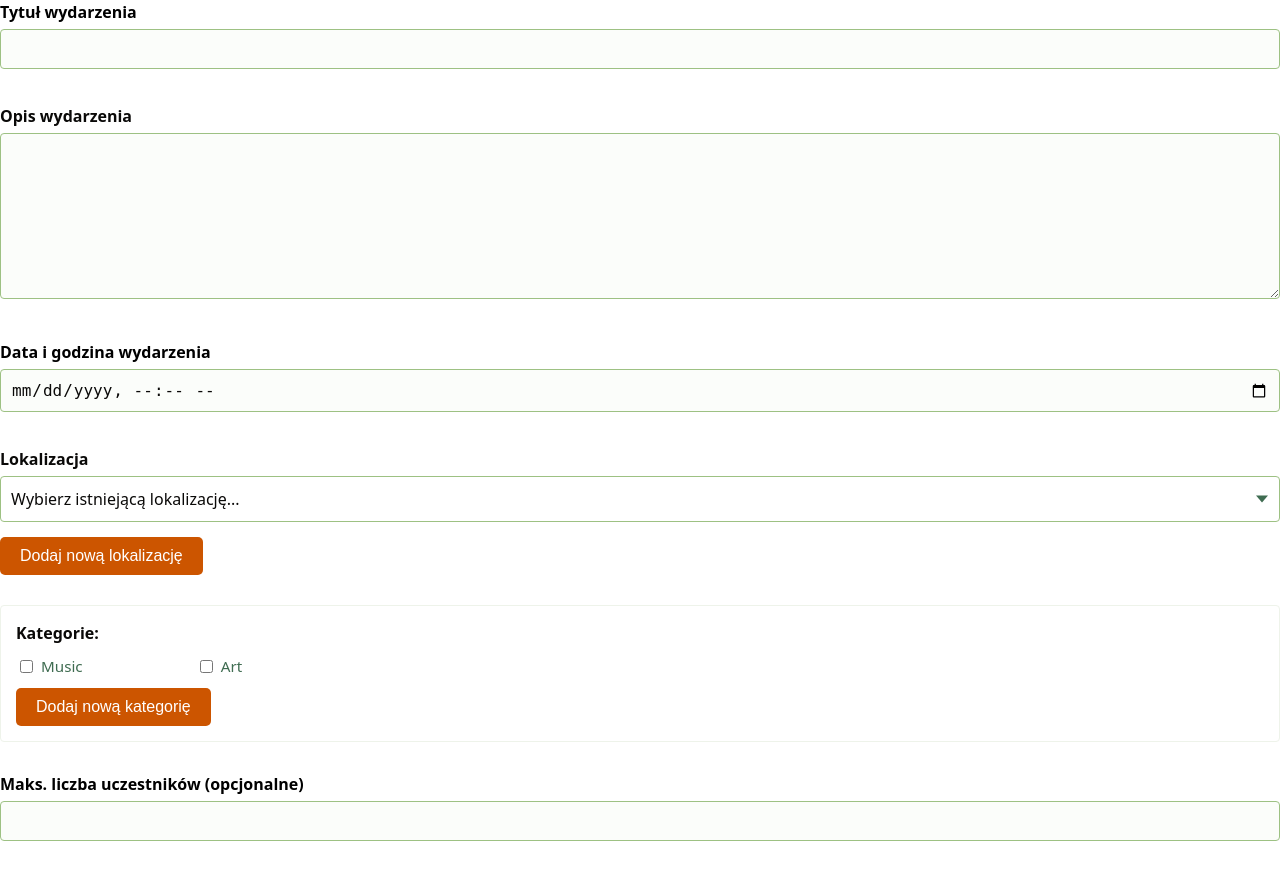
Scenario: EventForm Component › opens CreateCategory modal and its form
This screenshot has width=1280, height=876.
Expected: the field labelled "Tytuł wydarzenia" is shown, [0, 29, 1279, 69]
Click the button "Dodaj nową kategorię": point(113, 707) [16, 688, 211, 726]
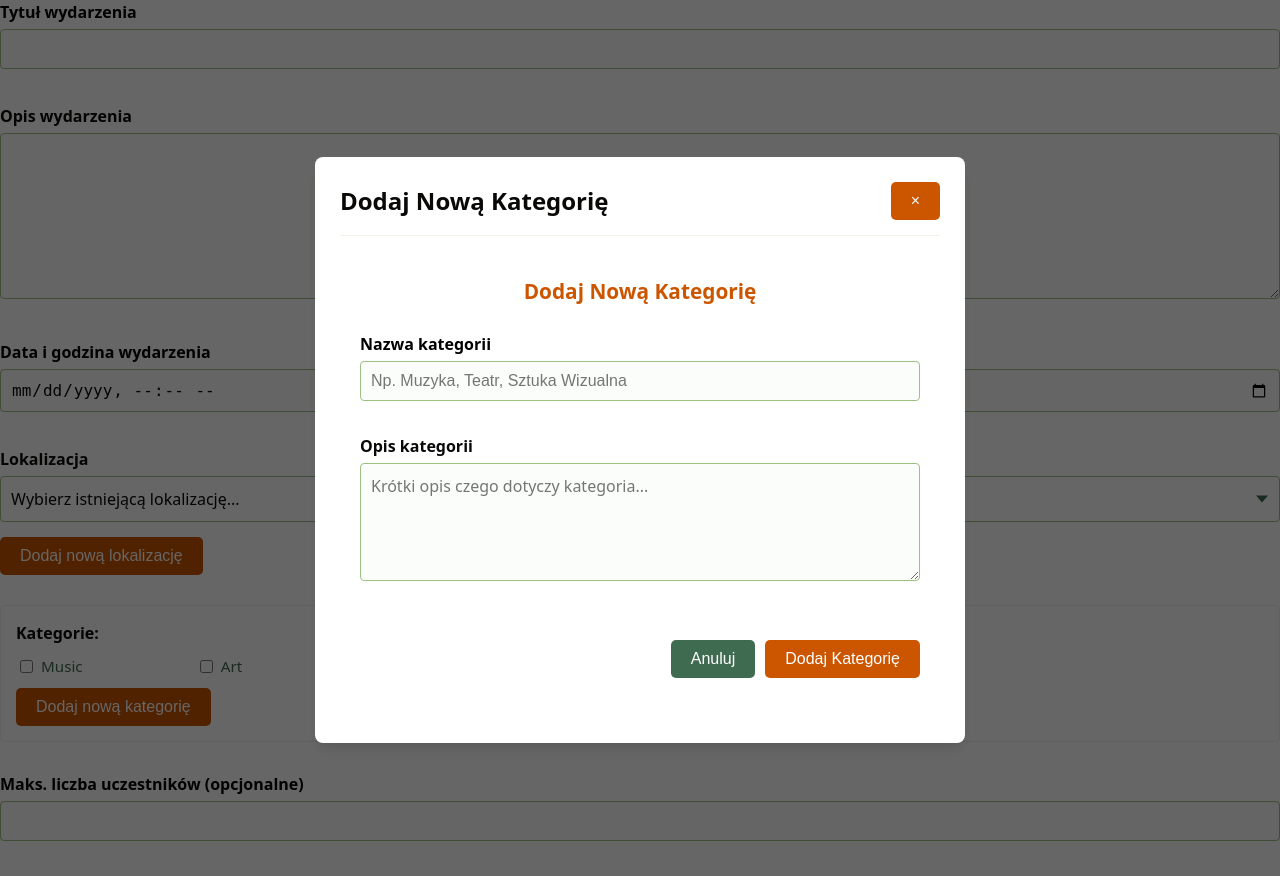
Expected: the 1st heading "Dodaj Nową Kategorię" is shown, [340, 183, 608, 219]
Expected: the field labelled "Nazwa kategorii" is shown, [360, 361, 920, 401]
